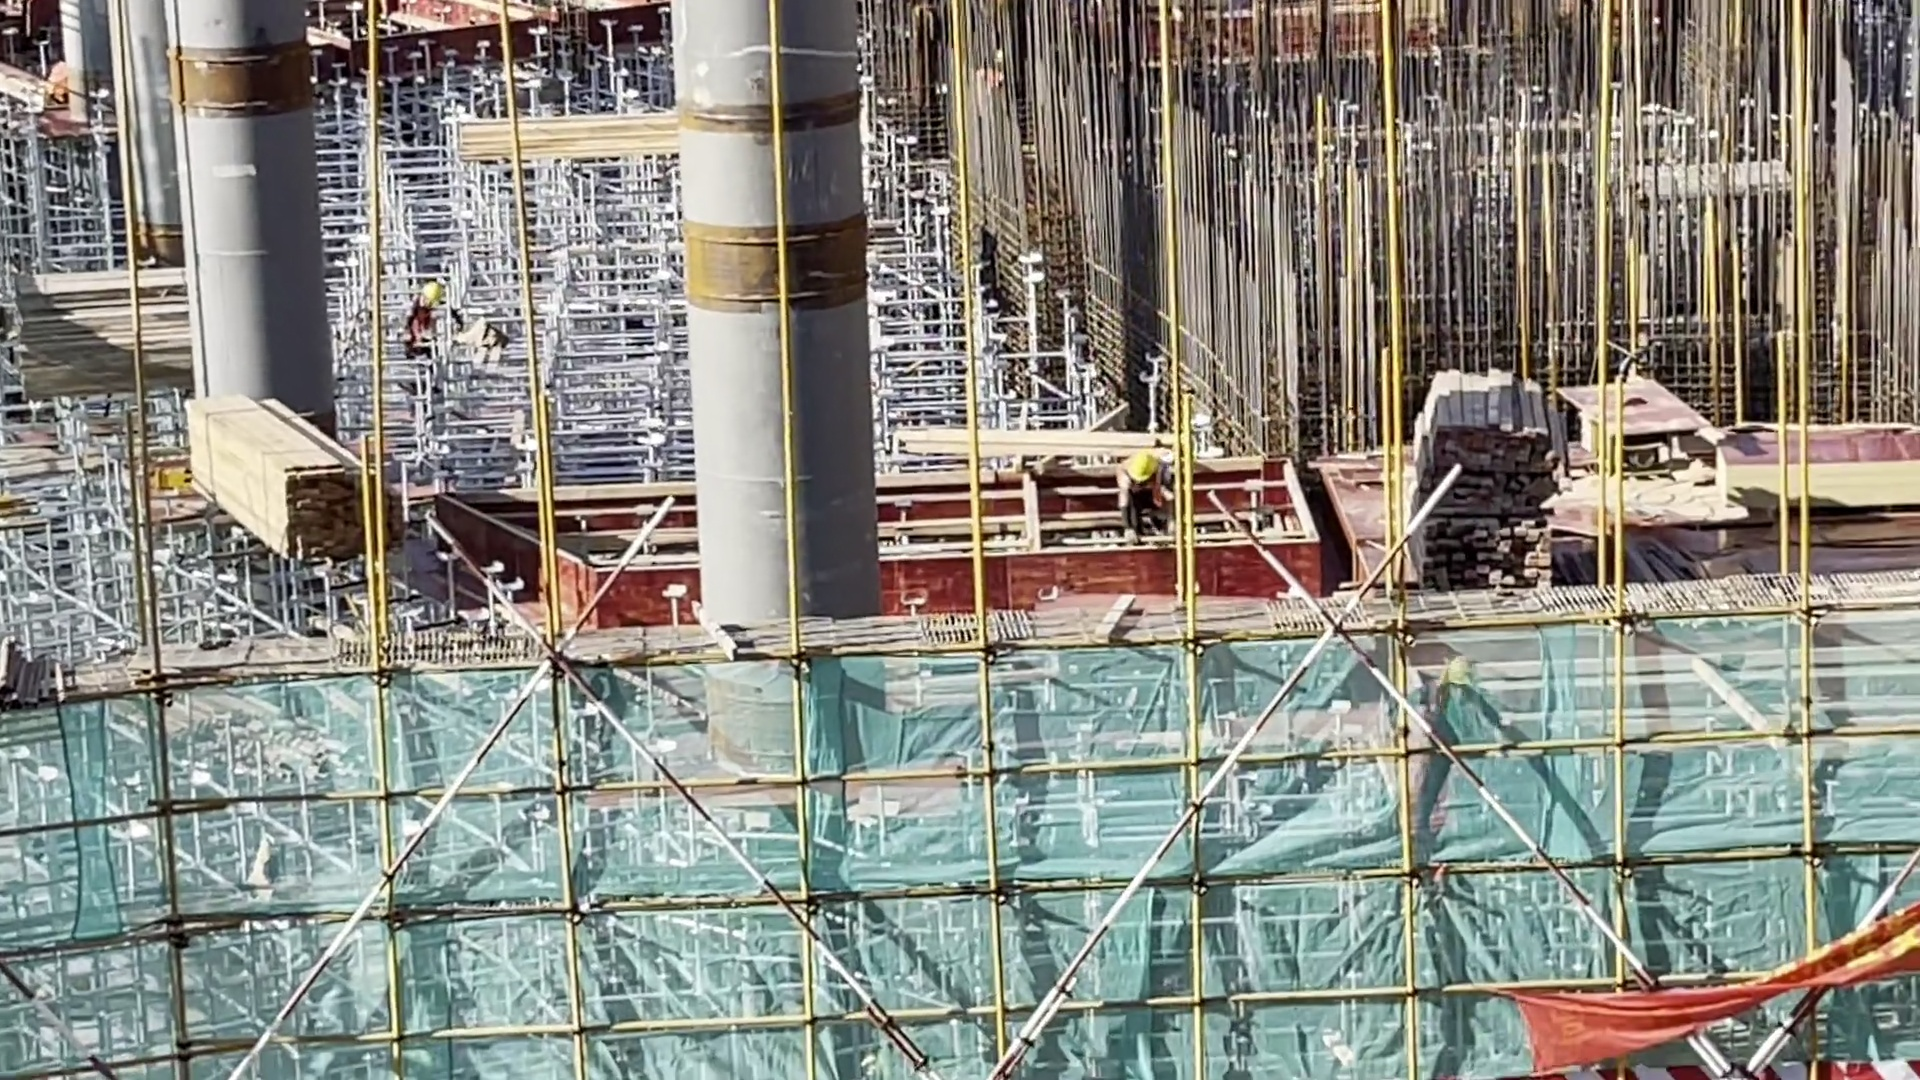helmet: (1122, 446, 1166, 486)
person: (1097, 431, 1182, 543)
wood: (1397, 349, 1575, 600)
